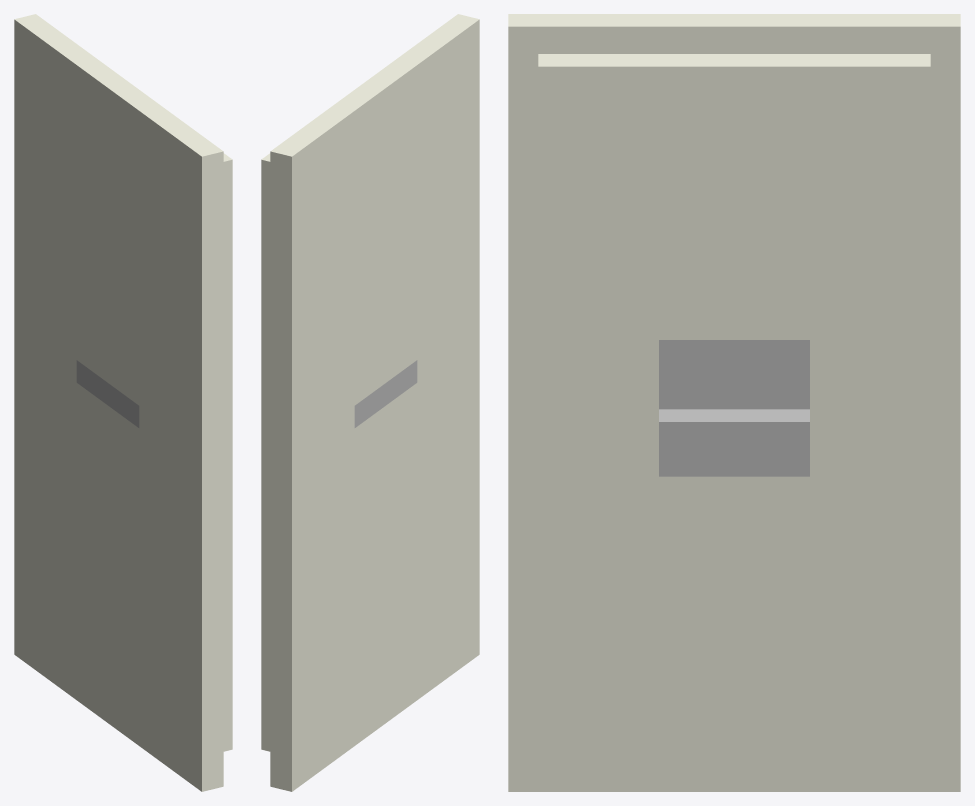
File: interupteur_socle.obj
3 renders of one model, left to right at view 1: azimuth 30°, elevation 25°; view 2: azimuth 150°, elevation 25°; view 3: azimuth 270°, elevation 25°, orthographic. The views are drawn at different scales.
Size of the model in its own units: 2 by 28 by 15.
Materials: 1 (1 with a texture image).
